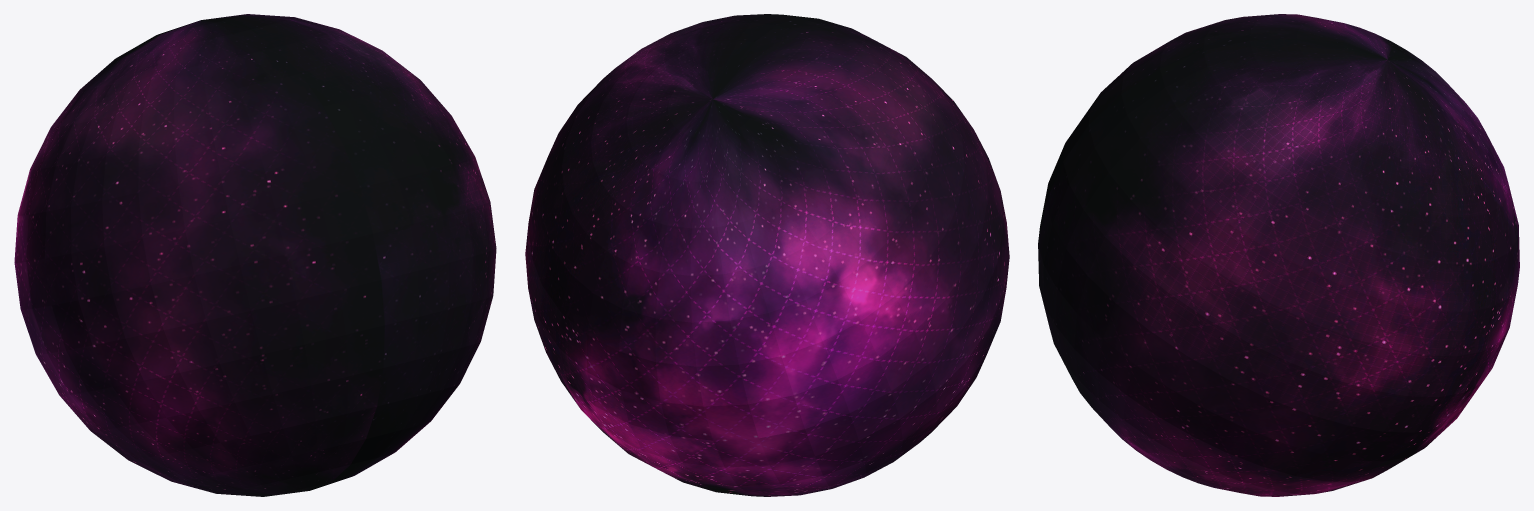
File: living_room1.glb
3 views of the same model, side by side, from view 1: azimuth 30°, elevation 25°; view 2: azimuth 150°, elevation 25°; view 3: azimuth 270°, elevation 25° (orthographic).
Parts seen in each view (by area): view 1: Sphere_1; view 2: Sphere_1; view 3: Sphere_1.
Boxes of the visible parts, x1,y1,x2,y2 form: Sphere_1: (14,14,496,496); Sphere_1: (525,14,1009,496); Sphere_1: (1038,14,1519,496).
Bounding box in the file's own units: 13666 × 13642 × 13632.
Materials: 44 (2 with a texture image).
